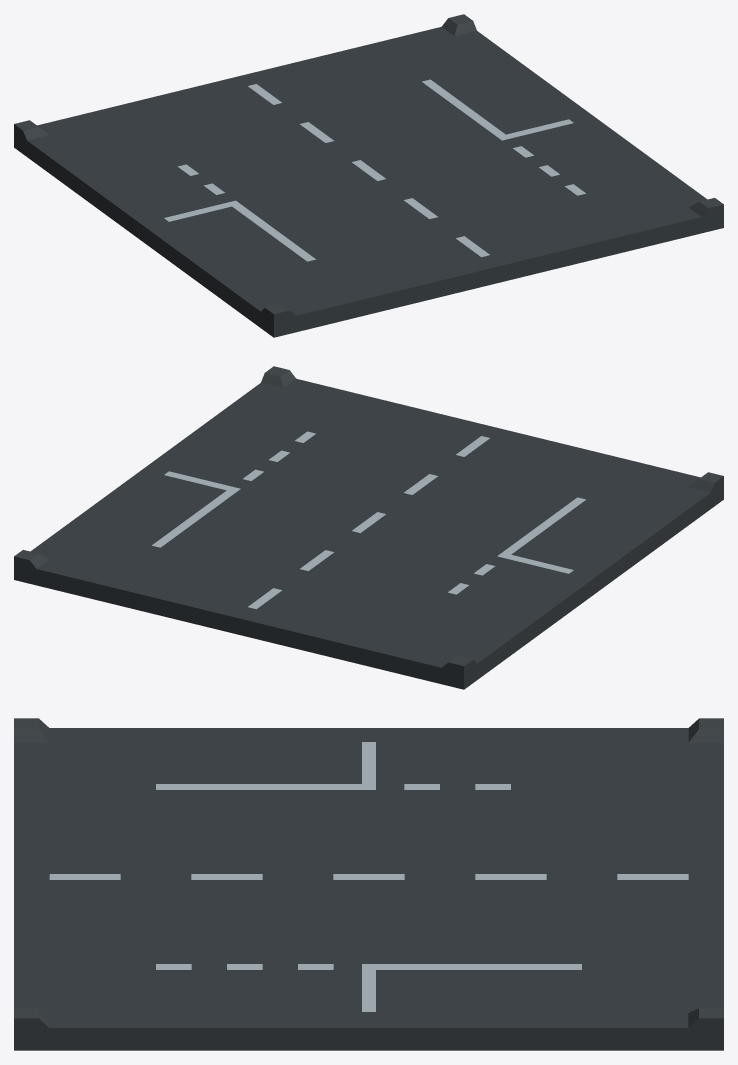
File: road_junction.obj
The picture shows the model from 3 angles, top to bottom: view 1: azimuth 30°, elevation 25°; view 2: azimuth 150°, elevation 25°; view 3: azimuth 270°, elevation 25°; orthographic projection. The views are drawn at different scales.
Visible parts, largest first — view 1: road_junction_Cube.949; view 2: road_junction_Cube.949; view 3: road_junction_Cube.949.
Part boxes in pixels (box(x1,y1,x2,y2)): road_junction_Cube.949: box(14, 14, 723, 337); road_junction_Cube.949: box(14, 366, 723, 689); road_junction_Cube.949: box(14, 718, 723, 1050).
Size of the model in its own units: 2 by 0.1 by 2.
